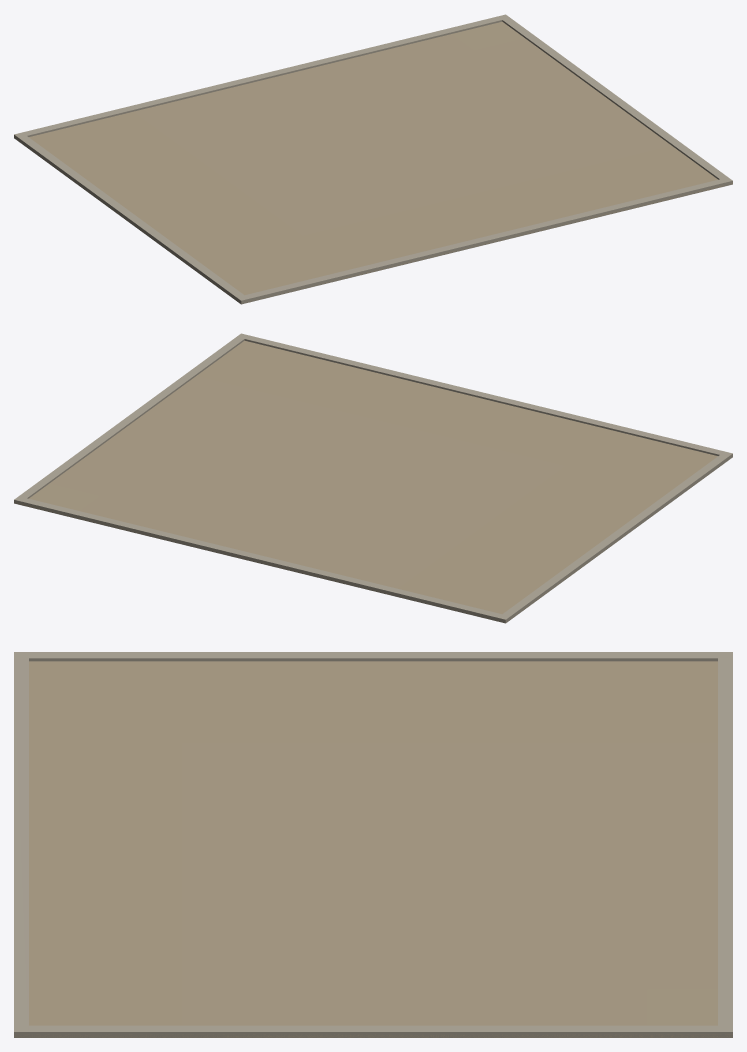
Rendered from republic_fort_plaza_lod1.glb.
3 renders of one model, top to bottom at view 1: azimuth 30°, elevation 25°; view 2: azimuth 150°, elevation 25°; view 3: azimuth 270°, elevation 25°, orthographic. The views are drawn at different scales.
Visible parts, largest first — view 1: GEO-Arch_republic_fort_plaza_LOD1; view 2: GEO-Arch_republic_fort_plaza_LOD1; view 3: GEO-Arch_republic_fort_plaza_LOD1.
Boxes of the visible parts, <box> form: GEO-Arch_republic_fort_plaza_LOD1: <box>14,14,732,304</box>; GEO-Arch_republic_fort_plaza_LOD1: <box>14,333,732,623</box>; GEO-Arch_republic_fort_plaza_LOD1: <box>14,652,732,1037</box>.
Size of the model in its own units: 30 by 0.2197 by 24.
